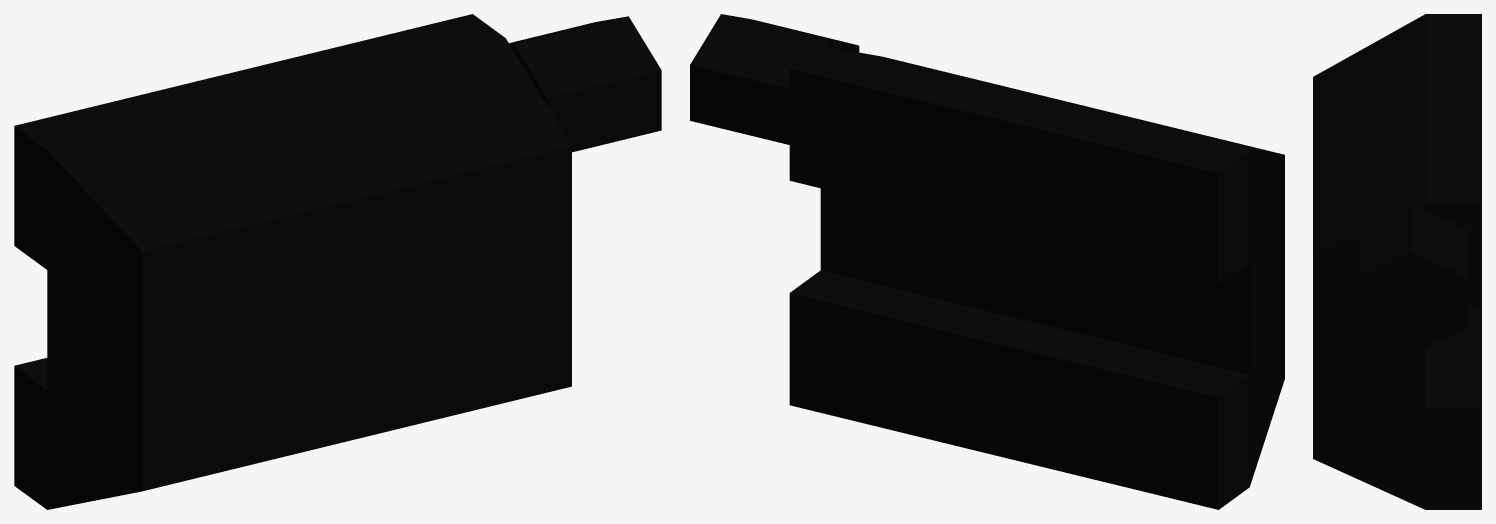
File: flashlight.obj
3 views of the same model, side by side, from view 1: azimuth 30°, elevation 25°; view 2: azimuth 150°, elevation 25°; view 3: azimuth 270°, elevation 25° (orthographic). The views are drawn at different scales.
Visible parts, largest first — view 1: grip, grip2, grip4, grip1; view 2: grip1, grip2, grip, grip3; view 3: grip, grip2, grip1, grip3, grip4.
Boxes of the visible parts, left/top/right/bottom form: grip: left=47, top=38, right=571, bottom=509; grip2: left=14, top=14, right=505, bottom=269; grip4: left=514, top=16, right=661, bottom=152; grip1: left=14, top=358, right=47, bottom=509; grip1: left=789, top=270, right=1249, bottom=509; grip2: left=789, top=46, right=1249, bottom=285; grip: left=820, top=46, right=1284, bottom=486; grip3: left=690, top=14, right=828, bottom=144; grip: left=1313, top=14, right=1425, bottom=509; grip2: left=1425, top=14, right=1481, bottom=305; grip1: left=1425, top=306, right=1481, bottom=509; grip3: left=1411, top=204, right=1467, bottom=353; grip4: left=1355, top=204, right=1411, bottom=353.
Size of the model in its own units: 1 by 0.6 by 0.3.
